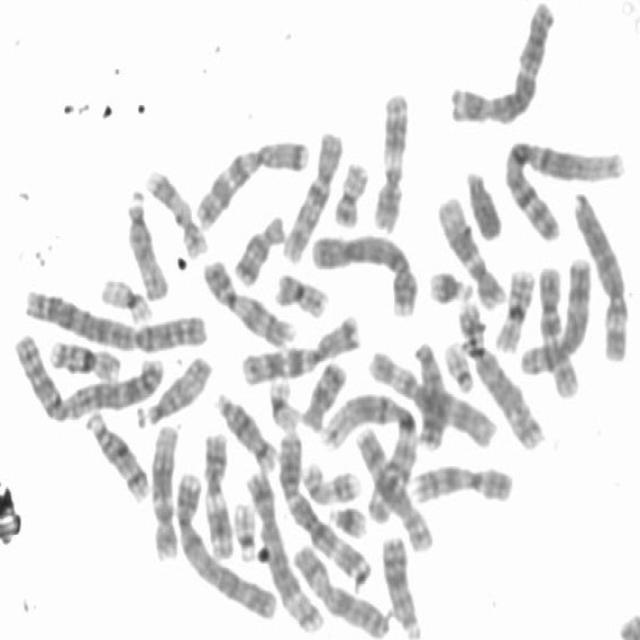A1: (316, 384, 421, 535), (496, 128, 630, 242)
A2: (6, 323, 165, 422), (18, 280, 210, 354)
A3: (274, 420, 376, 590), (445, 0, 559, 127)
B4: (170, 466, 280, 621), (306, 224, 420, 318)
B5: (240, 462, 326, 634), (454, 294, 546, 452)
C10: (280, 125, 347, 265), (532, 260, 582, 400)
C11: (367, 84, 411, 234), (199, 426, 236, 561)
C12: (432, 188, 509, 310), (146, 418, 181, 561)
C6: (364, 341, 499, 450), (567, 185, 631, 364)
C7: (190, 130, 312, 232), (235, 308, 362, 385)
C8: (352, 424, 434, 552), (514, 252, 593, 378)
C9: (199, 252, 300, 350), (406, 456, 516, 508)
D13: (377, 528, 427, 638), (410, 334, 449, 450)
D14: (80, 406, 150, 504), (211, 386, 280, 473)
D15: (133, 348, 215, 427), (121, 184, 171, 302)
E16: (44, 331, 124, 385), (491, 260, 536, 354)
E17: (140, 161, 209, 259), (298, 454, 364, 506)
E18: (228, 207, 286, 288), (299, 354, 349, 431)
F19: (95, 270, 155, 325), (264, 370, 303, 433)
F20: (329, 154, 371, 229), (272, 265, 330, 319)
G21: (424, 262, 476, 306), (324, 498, 370, 539)
G22: (439, 334, 476, 394), (229, 493, 261, 562)
X: (286, 536, 391, 638)
Y: (459, 161, 504, 242)
